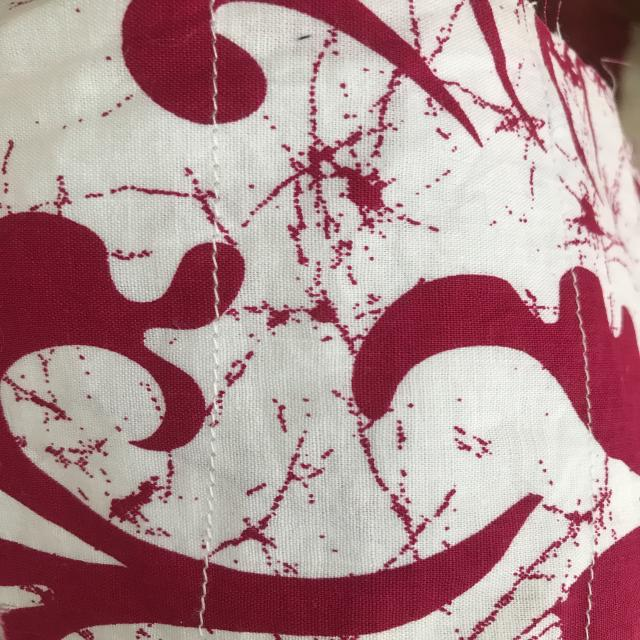good: (190, 451, 226, 562), (192, 247, 226, 322), (199, 44, 232, 114)
